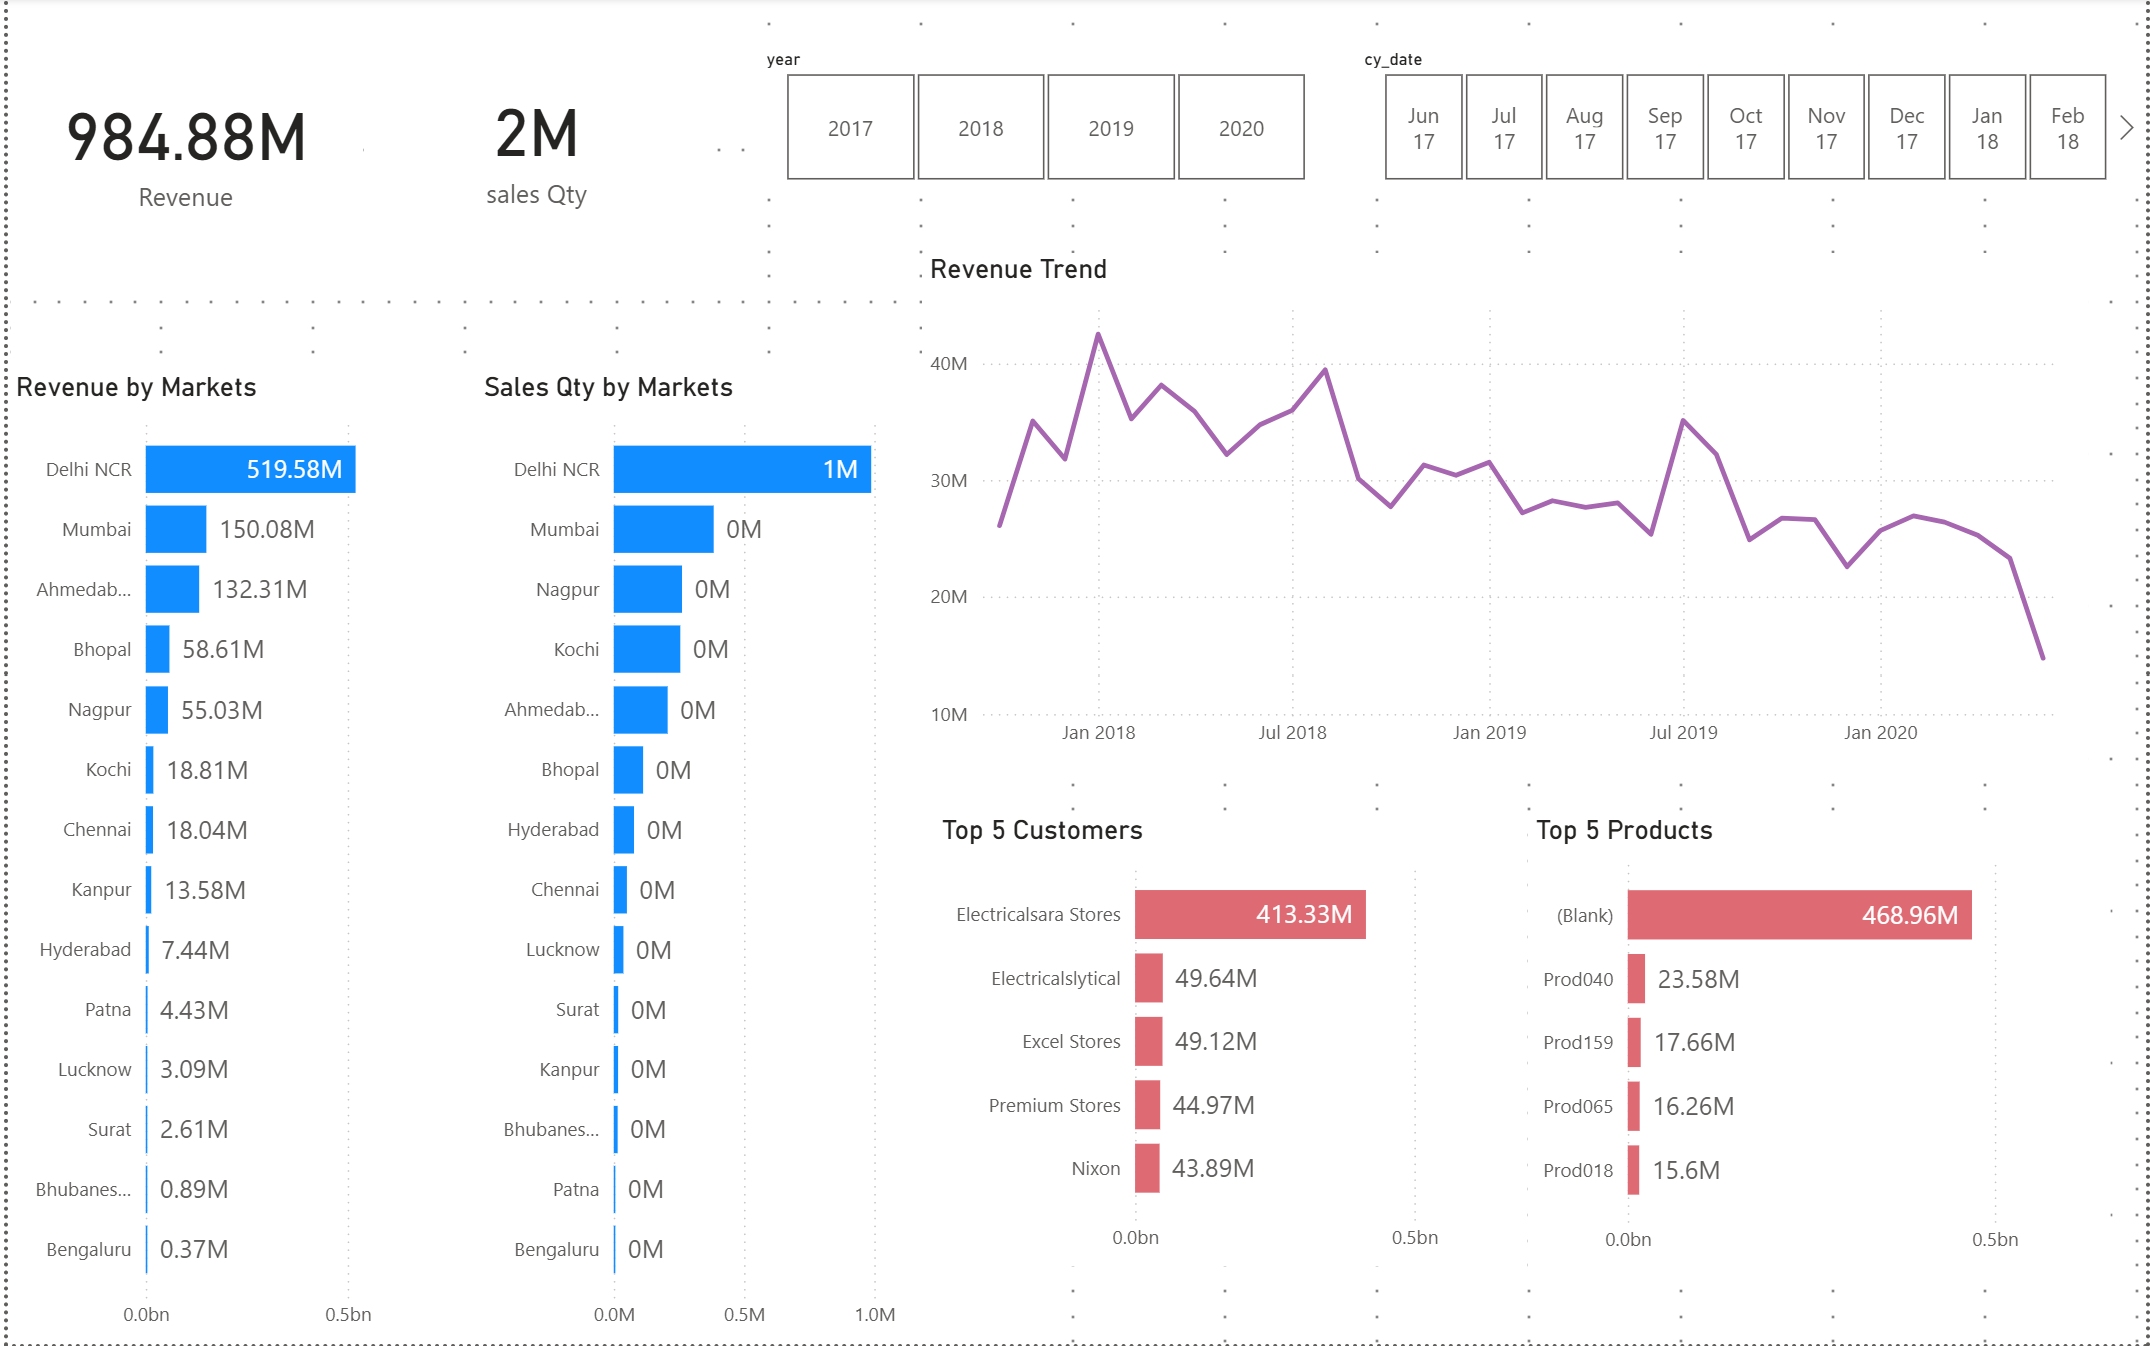

Layout of this report page (visuals, bound fields, positions):
{"tool":"powerbi","page":{"name":"Page 1","canvas":[1350,850],"ordinal":0},"visuals":[{"type":"card","fields":{"Values":["BaseMeasures.Revenue"]},"box":[0,3.3,224.5,180.6],"z":0},{"type":"card","fields":{"Values":["BaseMeasures.sales Qty"]},"box":[224.5,0,218,183.9],"z":1000},{"type":"barChart","title":"Revenue by Markets","fields":{"Y":["BaseMeasures.Revenue"],"Category":["sales markets.markets_name"]},"box":[0,235.8,295.5,613.6],"z":2000},{"type":"barChart","title":"Sales Qty by Markets","fields":{"Y":["BaseMeasures.sales Qty"],"Category":["sales markets.markets_name"]},"box":[295.5,235.8,295.5,613.6],"z":3000},{"type":"slicer","fields":{"Values":["sales date.year"]},"box":[466.5,28.4,377.2,94.6],"z":4000},{"type":"slicer","fields":{"Values":["sales date.cy_date"]},"box":[843.7,28.4,505.7,94.6],"z":5000},{"type":"barChart","title":"Top 5 Customers","fields":{"Y":["BaseMeasures.Revenue"],"Category":["sales customers.custmer_name"]},"box":[585.5,515.2,361,285.3],"z":6000},{"type":"barChart","title":"Top 5 Products","fields":{"Y":["BaseMeasures.Revenue"],"Category":["sales products.product_code"]},"box":[960,515.2,367.8,286.6],"z":7000},{"type":"lineChart","title":"Revenue Trend","fields":{"Y":["BaseMeasures.Revenue"],"Category":["sales date.cy_date"]},"box":[577.6,161.1,737.1,320.5],"z":8000}]}

Visuals, with their boxes in screenshot pixels (x1, y1, x2, y2), scaled from the page's 1350x850 canvas onto the 2150x1346 screenshot:
card - BaseMeasures.Revenue: locate(0, 5, 358, 291)
card - BaseMeasures.sales Qty: locate(358, 0, 705, 291)
"Revenue by Markets" barChart: locate(0, 373, 471, 1345)
"Sales Qty by Markets" barChart: locate(471, 373, 941, 1345)
slicer - sales date.year: locate(743, 45, 1344, 195)
slicer - sales date.cy_date: locate(1344, 45, 2149, 195)
"Top 5 Customers" barChart: locate(932, 816, 1507, 1268)
"Top 5 Products" barChart: locate(1529, 816, 2115, 1270)
"Revenue Trend" lineChart: locate(920, 255, 2094, 763)
